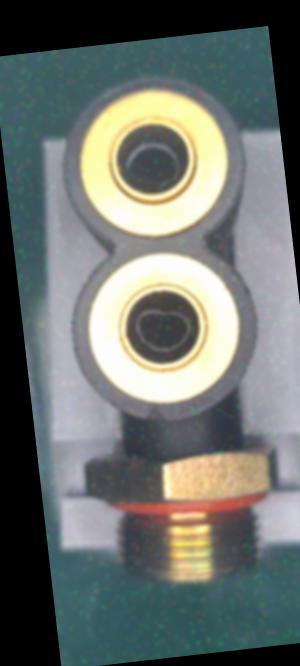bump: (135, 402, 177, 433)
off-centered: (124, 297, 198, 358), (117, 136, 189, 192)
